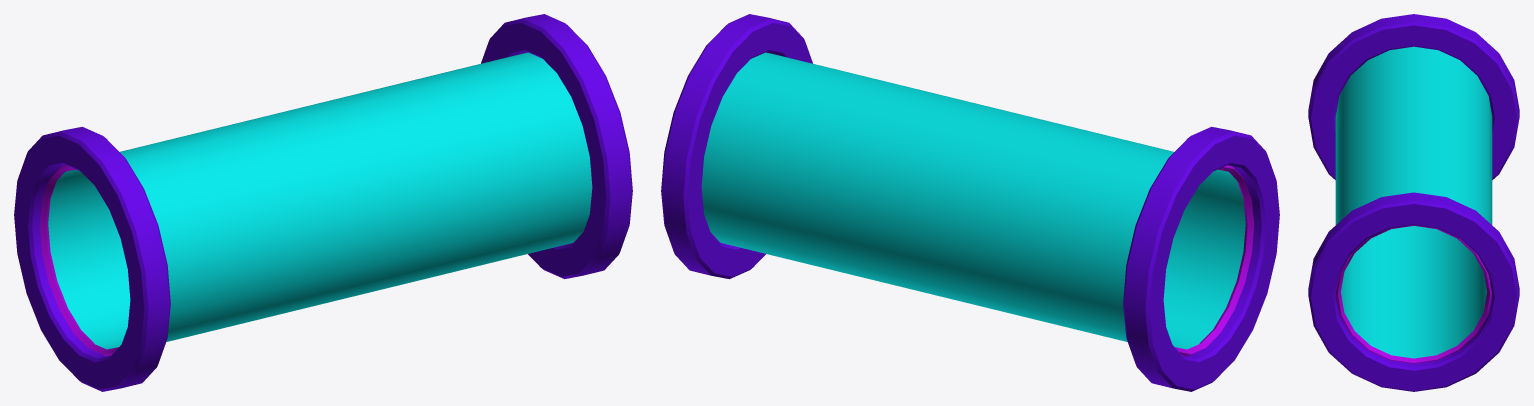
Rendered from Medium Straight.fbx.
3 renders of one model, left to right at view 1: azimuth 30°, elevation 25°; view 2: azimuth 150°, elevation 25°; view 3: azimuth 270°, elevation 25°, orthographic. The views are drawn at different scales.
Parts seen in each view (by area): view 1: SmartCombine_2; view 2: SmartCombine_2; view 3: SmartCombine_2.
Boxes of the visible parts, <box> form: SmartCombine_2: <box>14,14,632,391</box>; SmartCombine_2: <box>661,14,1279,391</box>; SmartCombine_2: <box>1308,14,1519,391</box>.
Size of the model in its own units: 52.87 by 25 by 25.
